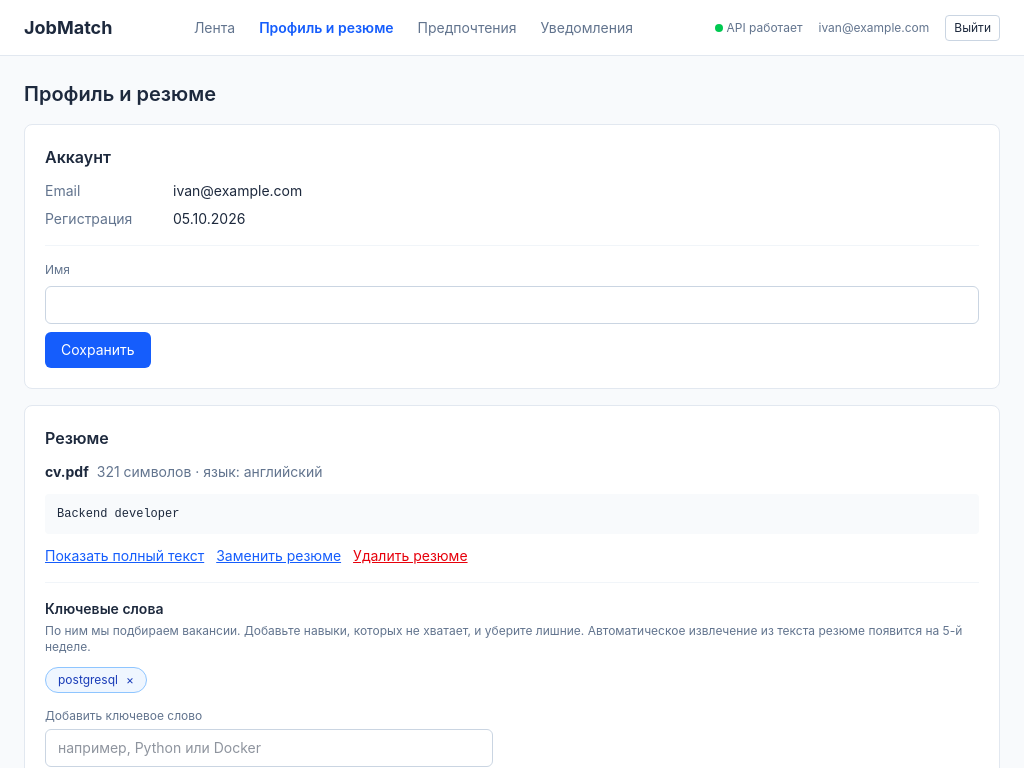
Test: ключевые слова › Enter добавляет слово после нормализации, повторы игнорируются
Later steps or results of the test are not shown.
Type "JS" into the dropdown labelled "Добавить ключевое слово". click: (269, 748)
box: top-left (45, 729), bottom-right (493, 767)
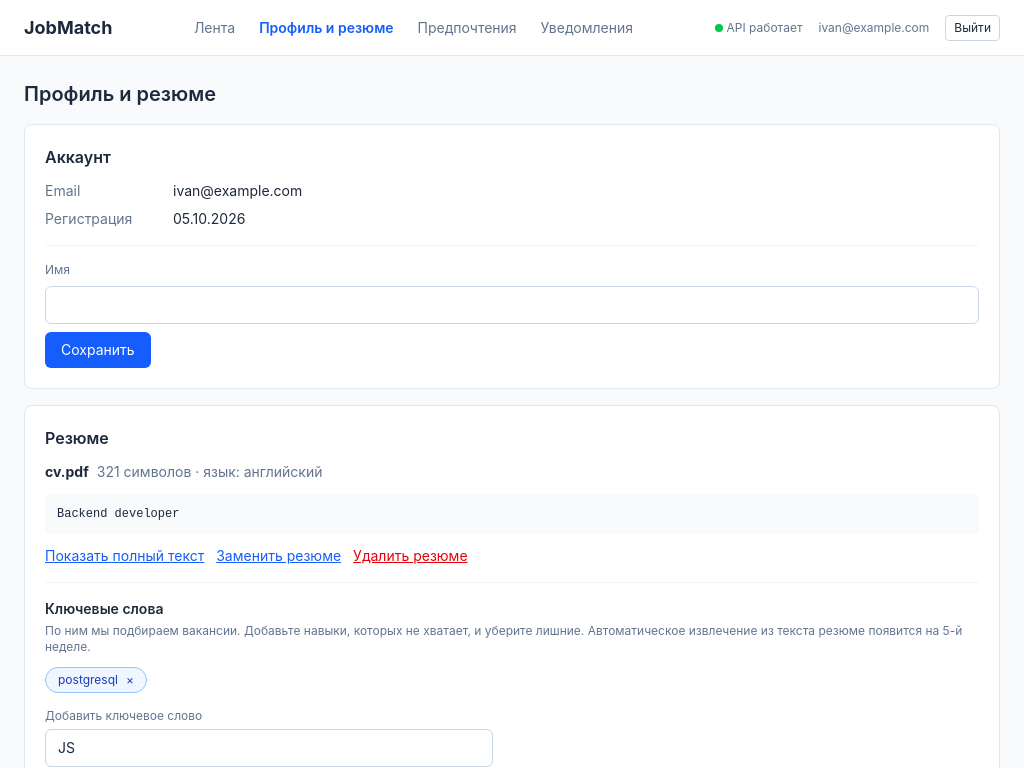
Press Enter in the dropdown labelled "Добавить ключевое слово", box top-left (45, 729), bottom-right (493, 767)
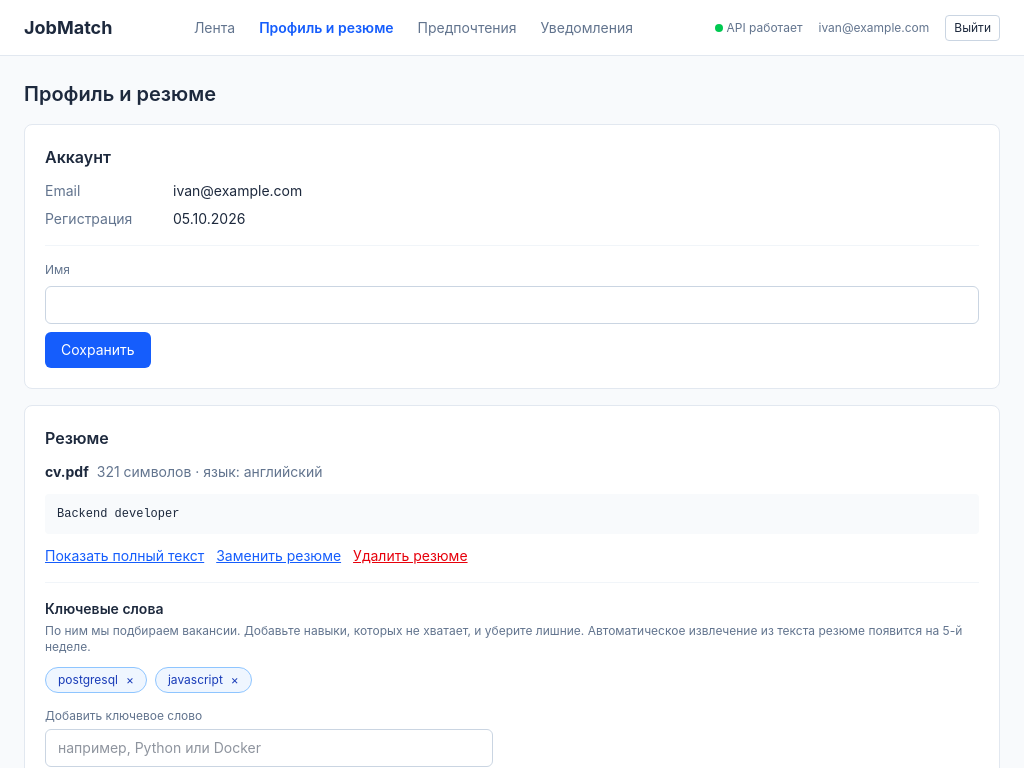
Expected: the dropdown labelled "Добавить ключевое слово" is empty, top-left (45, 729), bottom-right (493, 767)
